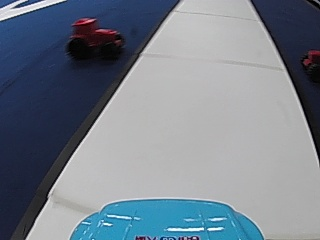tractor: (66, 15, 125, 61), (300, 48, 320, 81)
